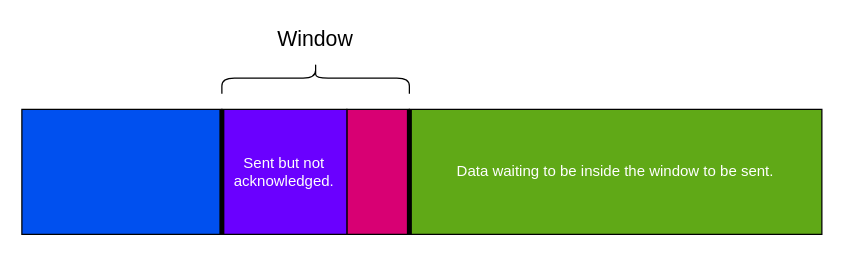
Image size: 844x259. Some labels were removed from this diagram. Here are the shapes that lost their labels. From the top down, the centre of each, then its label:
(121,171): Send & Acknowledged.
(377,171): Can send now!
